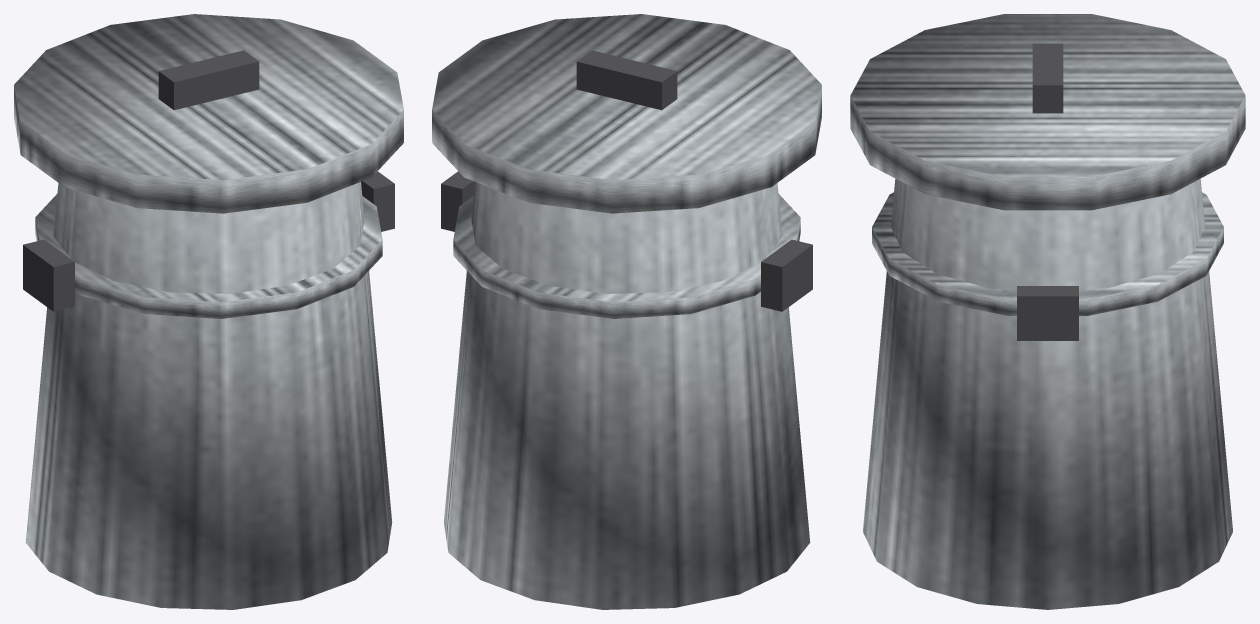
The model's file is WK_PRP_TrashCan.glb.
The picture shows the model from 3 angles, left to right: view 1: azimuth 30°, elevation 25°; view 2: azimuth 150°, elevation 25°; view 3: azimuth 270°, elevation 25°; orthographic projection.
Visible parts, largest first — view 1: WK_PRP_TrashCan_P01, WK_PRP_TrashCan_P04, WK_PRP_TrashCan_P03, WK_PRP_TrashCan_P05, WK_PRP_TrashCan_P06, WK_PRP_TrashCan_P07; view 2: WK_PRP_TrashCan_P01, WK_PRP_TrashCan_P04, WK_PRP_TrashCan_P03, WK_PRP_TrashCan_P05, WK_PRP_TrashCan_P06, WK_PRP_TrashCan_P07; view 3: WK_PRP_TrashCan_P01, WK_PRP_TrashCan_P04, WK_PRP_TrashCan_P03, WK_PRP_TrashCan_P07, WK_PRP_TrashCan_P05.
Part boxes in pixels (x1,y1,x2,y2): WK_PRP_TrashCan_P01: [25, 182, 392, 609]; WK_PRP_TrashCan_P04: [14, 14, 403, 213]; WK_PRP_TrashCan_P03: [35, 194, 382, 318]; WK_PRP_TrashCan_P05: [158, 50, 259, 110]; WK_PRP_TrashCan_P06: [23, 239, 74, 311]; WK_PRP_TrashCan_P07: [361, 171, 394, 231]; WK_PRP_TrashCan_P01: [443, 182, 810, 609]; WK_PRP_TrashCan_P04: [432, 14, 821, 213]; WK_PRP_TrashCan_P03: [453, 194, 800, 318]; WK_PRP_TrashCan_P05: [576, 50, 677, 110]; WK_PRP_TrashCan_P06: [761, 239, 812, 311]; WK_PRP_TrashCan_P07: [441, 171, 474, 231]; WK_PRP_TrashCan_P01: [863, 179, 1232, 609]; WK_PRP_TrashCan_P04: [850, 14, 1245, 210]; WK_PRP_TrashCan_P03: [872, 192, 1223, 315]; WK_PRP_TrashCan_P07: [1017, 286, 1078, 340]; WK_PRP_TrashCan_P05: [1032, 43, 1063, 113].
Size of the model in its own units: 0.64 by 0.835 by 0.64.
Materials: 2 (1 with a texture image).
